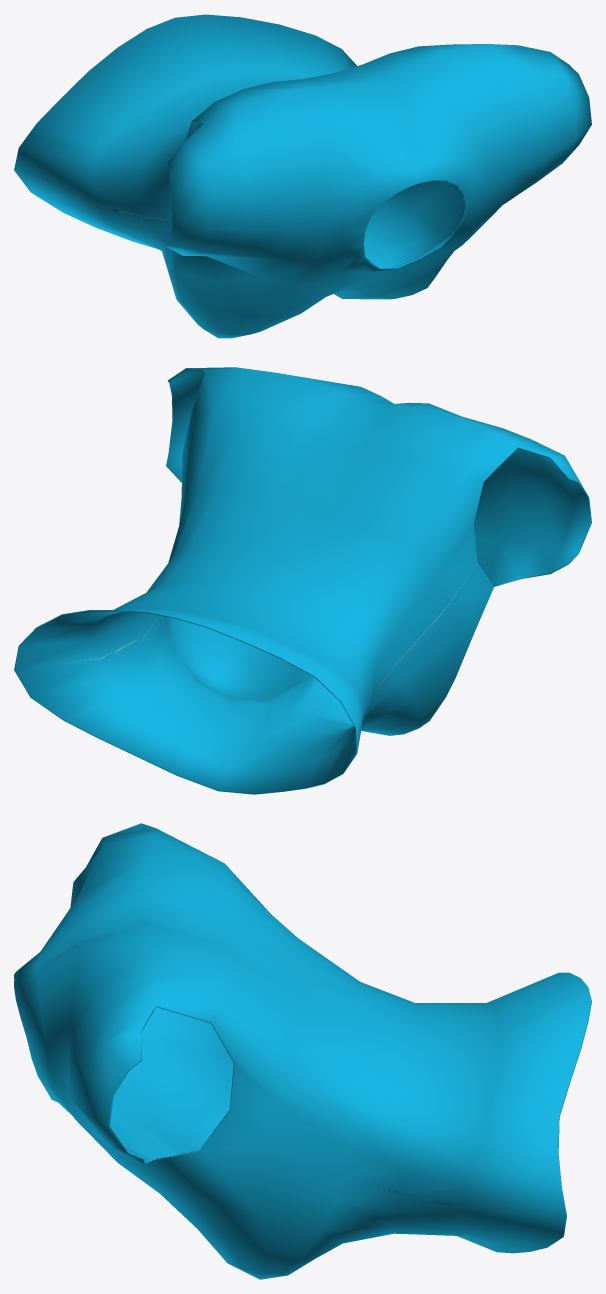
The model's file is arcaneArmor.fbx.
3 renders of one model, top to bottom at view 1: azimuth 30°, elevation 25°; view 2: azimuth 150°, elevation 25°; view 3: azimuth 270°, elevation 25°, orthographic. The views are drawn at different scales.
Visible parts, largest first — view 1: arcaneArmor; view 2: arcaneArmor; view 3: arcaneArmor.
Boxes of the visible parts, x1=… form: arcaneArmor: x1=14, y1=14, x2=591, y2=338; arcaneArmor: x1=14, y1=367, x2=591, y2=794; arcaneArmor: x1=14, y1=823, x2=591, y2=1279.
Size of the model in its own units: 0.3488 by 0.2313 by 0.3576.
1 material, 1 textured.
